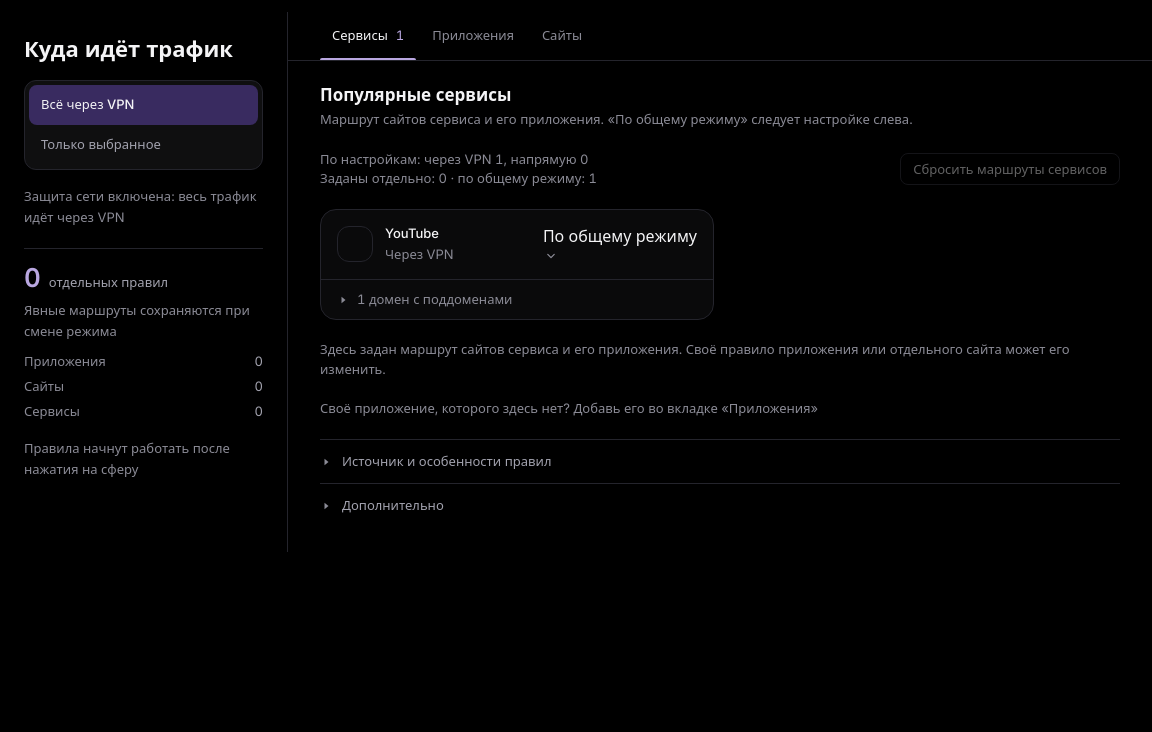
Test case: при включённой защите прямой режим и вариант сервиса доступны
The width and height of the screenshot is (1152, 732).
Expected: the radio button labelled "Только выбранное" is enabled, [29,124,258,164]
Click the dropdown named "Маршрут сервиса YouTube". click: coordinates (620, 244)
box: [543,224,697,264]
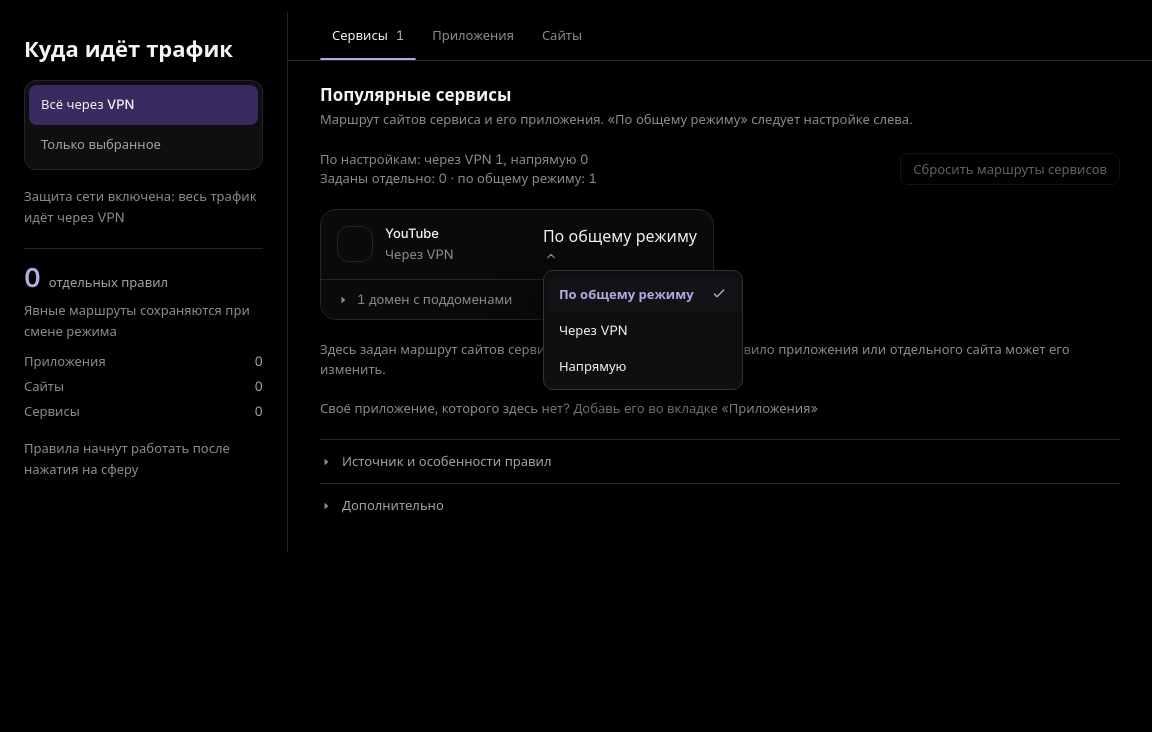
Click the option "Напрямую". click: coordinates (593, 366)
box: [559,358,626,374]
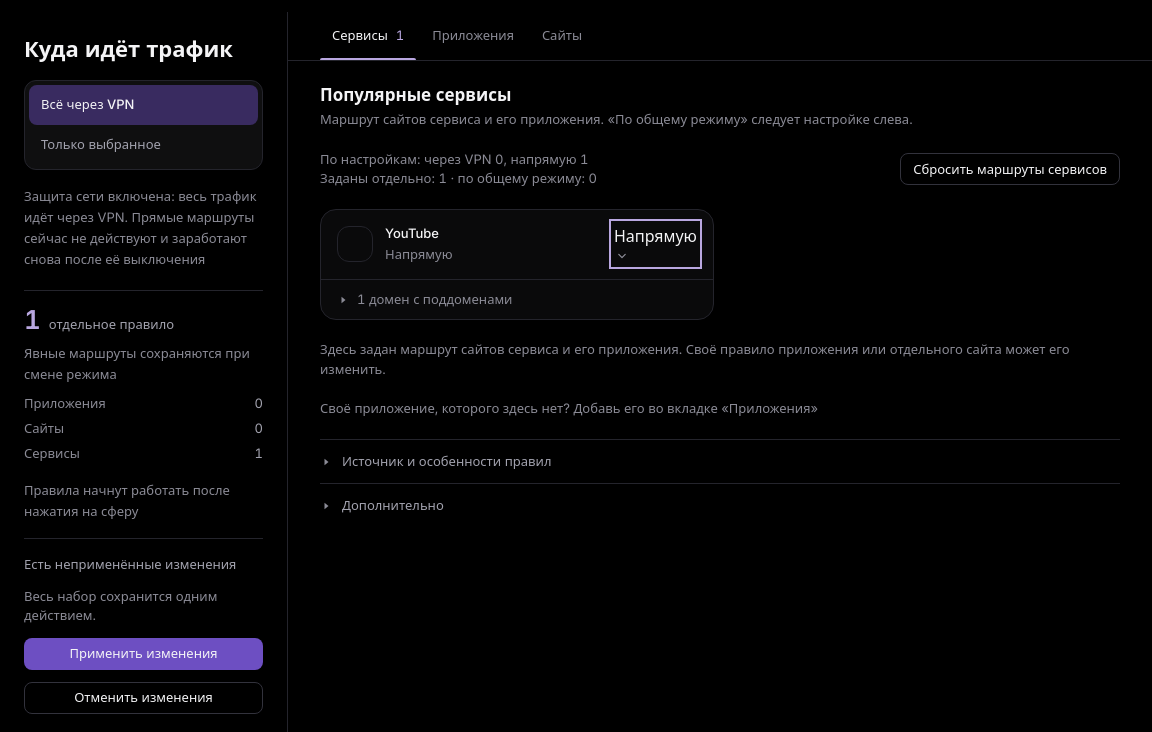
Expected: the dropdown named "Маршрут сервиса YouTube" reads "Напрямую", [614,224,697,264]
